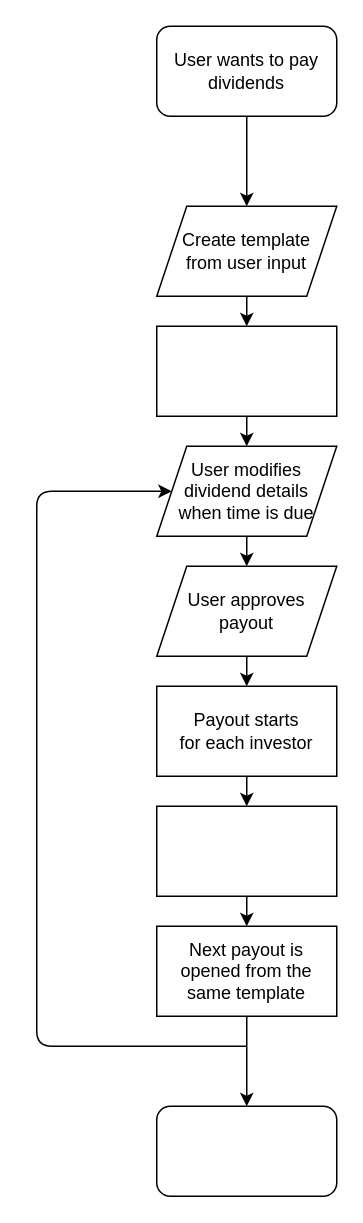
Image size: 363x1223. Some labels were removed from this diagram. The centre of each missing label's shape, as x and y in pixels:
Dividend payout marked as complete when all payments done: point (246, 850)
Done: point (246, 1150)
Template reserves a future payout always visible to be modified: point (246, 370)
